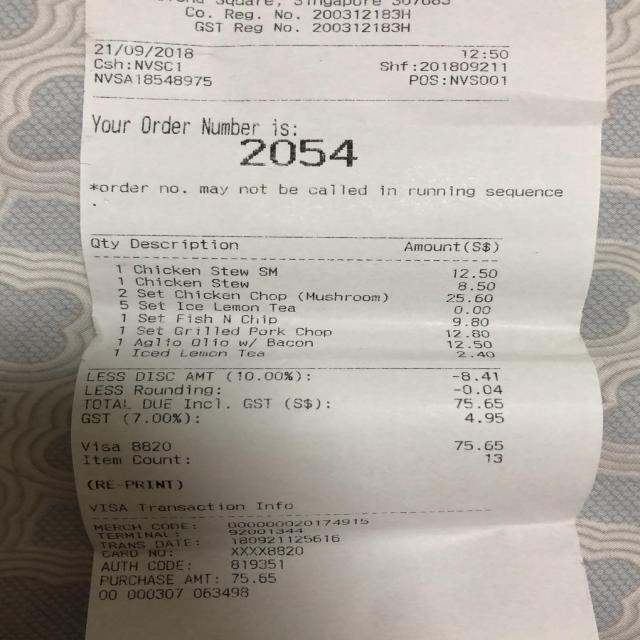bill_region: (74, 256, 514, 416)
